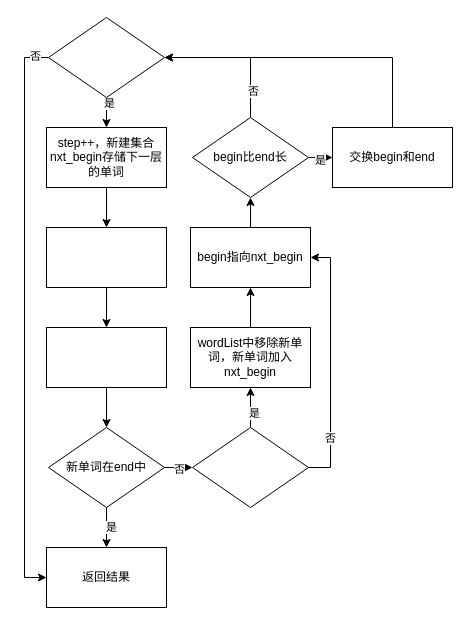
This 470x625 diagram has some shape labels left out. The centre of each missing label's shape, as x and y in pixels:
"begin不为空" goes at (x=106, y=57).
"新单词在 wordList中" goes at (x=250, y=467).
"遍历begin中的单词" goes at (x=106, y=257).
"遍历单词的每个字符并替换为其他字母" goes at (x=106, y=357).
